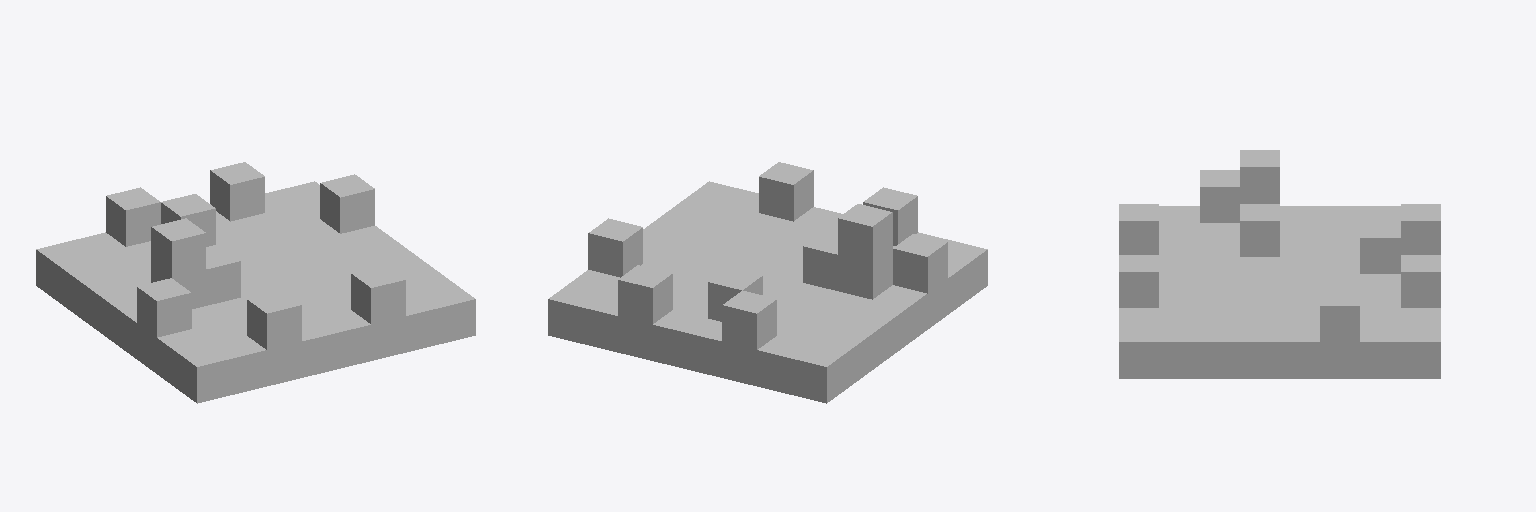
The model's file is NewGrass4.obj.
3 renders of one model, left to right at view 1: azimuth 30°, elevation 25°; view 2: azimuth 150°, elevation 25°; view 3: azimuth 270°, elevation 25°, orthographic.
Visible parts, largest first — view 1: object 1; view 2: object 1; view 3: object 1.
Boxes of the visible parts, <box> form: object 1: <box>36,162,475,403</box>; object 1: <box>548,162,987,403</box>; object 1: <box>1119,150,1440,378</box>.
Bounding box in the file's own units: 0.8 × 0.3 × 0.8.